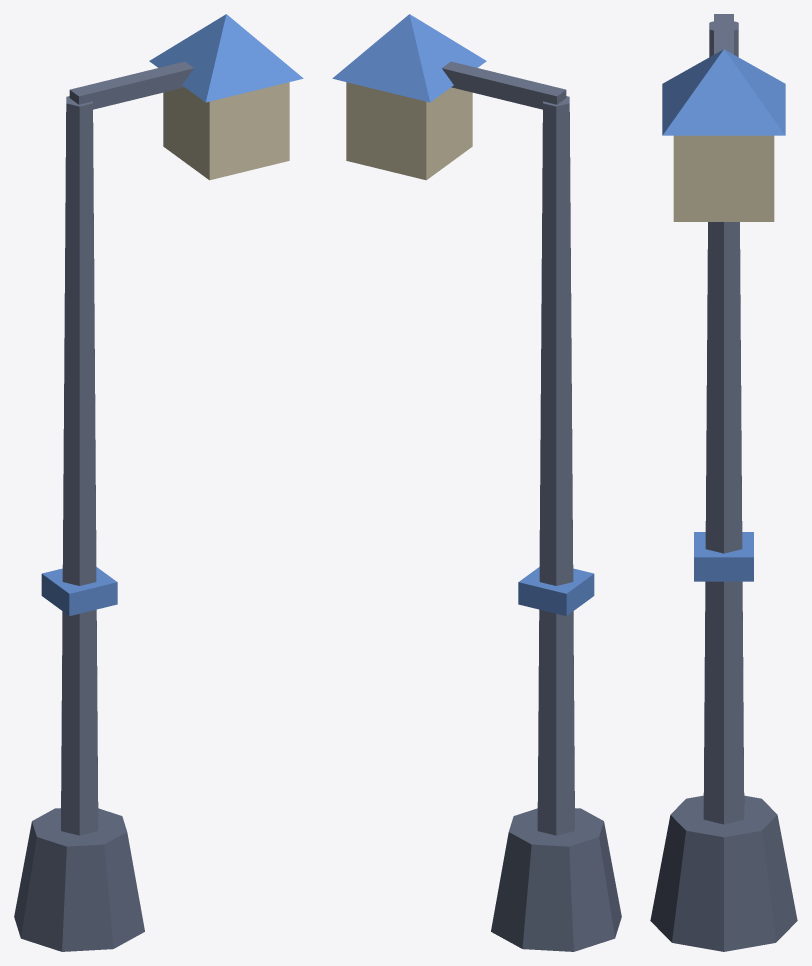
The model's file is lamp_post.glb.
3 views of the same model, side by side, from view 1: azimuth 30°, elevation 25°; view 2: azimuth 150°, elevation 25°; view 3: azimuth 270°, elevation 25° (orthographic). The views are drawn at different scales.
Bounding box in the file's own units: 0.9538 × 3.13 × 0.44.
